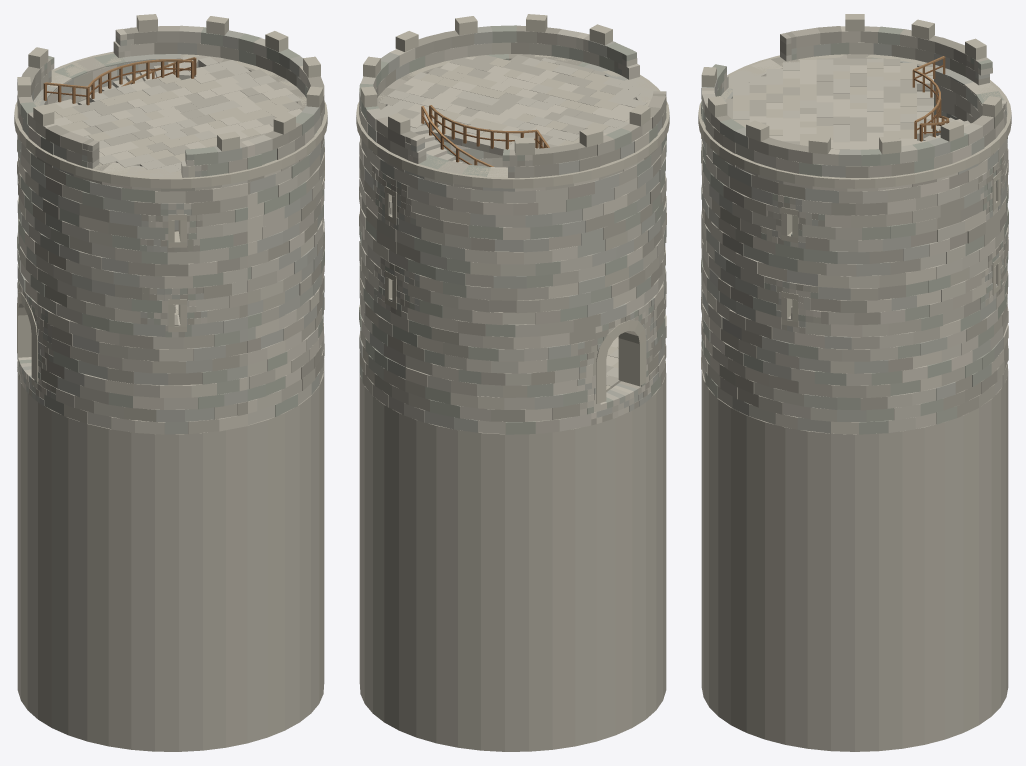
The model's file is Tower_V4_7.glb.
3 views of the same model, side by side, from view 1: azimuth 30°, elevation 25°; view 2: azimuth 150°, elevation 25°; view 3: azimuth 270°, elevation 25° (orthographic).
Visible parts, largest first — view 1: Tower_V4_7; view 2: Tower_V4_7; view 3: Tower_V4_7.
Boxes of the visible parts, x1,y1,x2,y2 form: Tower_V4_7: (14,14,327,751); Tower_V4_7: (356,14,669,751); Tower_V4_7: (698,14,1011,751).
Bounding box in the file's own units: 16.84 × 36.07 × 16.84.
